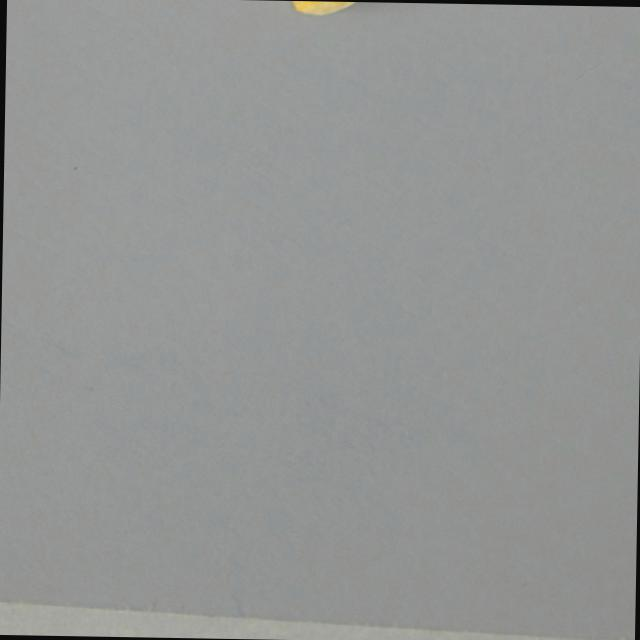dañado: (267, 0, 381, 28)
